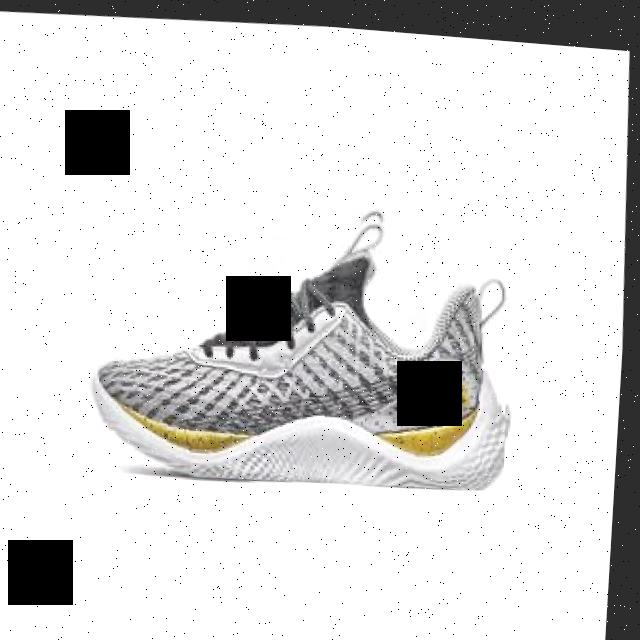shoe: (79, 178, 521, 496)
